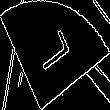L_SW: (33, 29, 77, 81)
